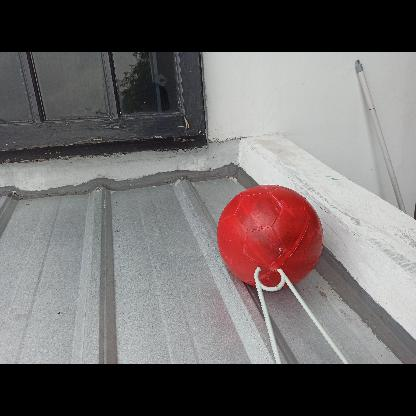red_ball: (218, 183, 322, 287)
